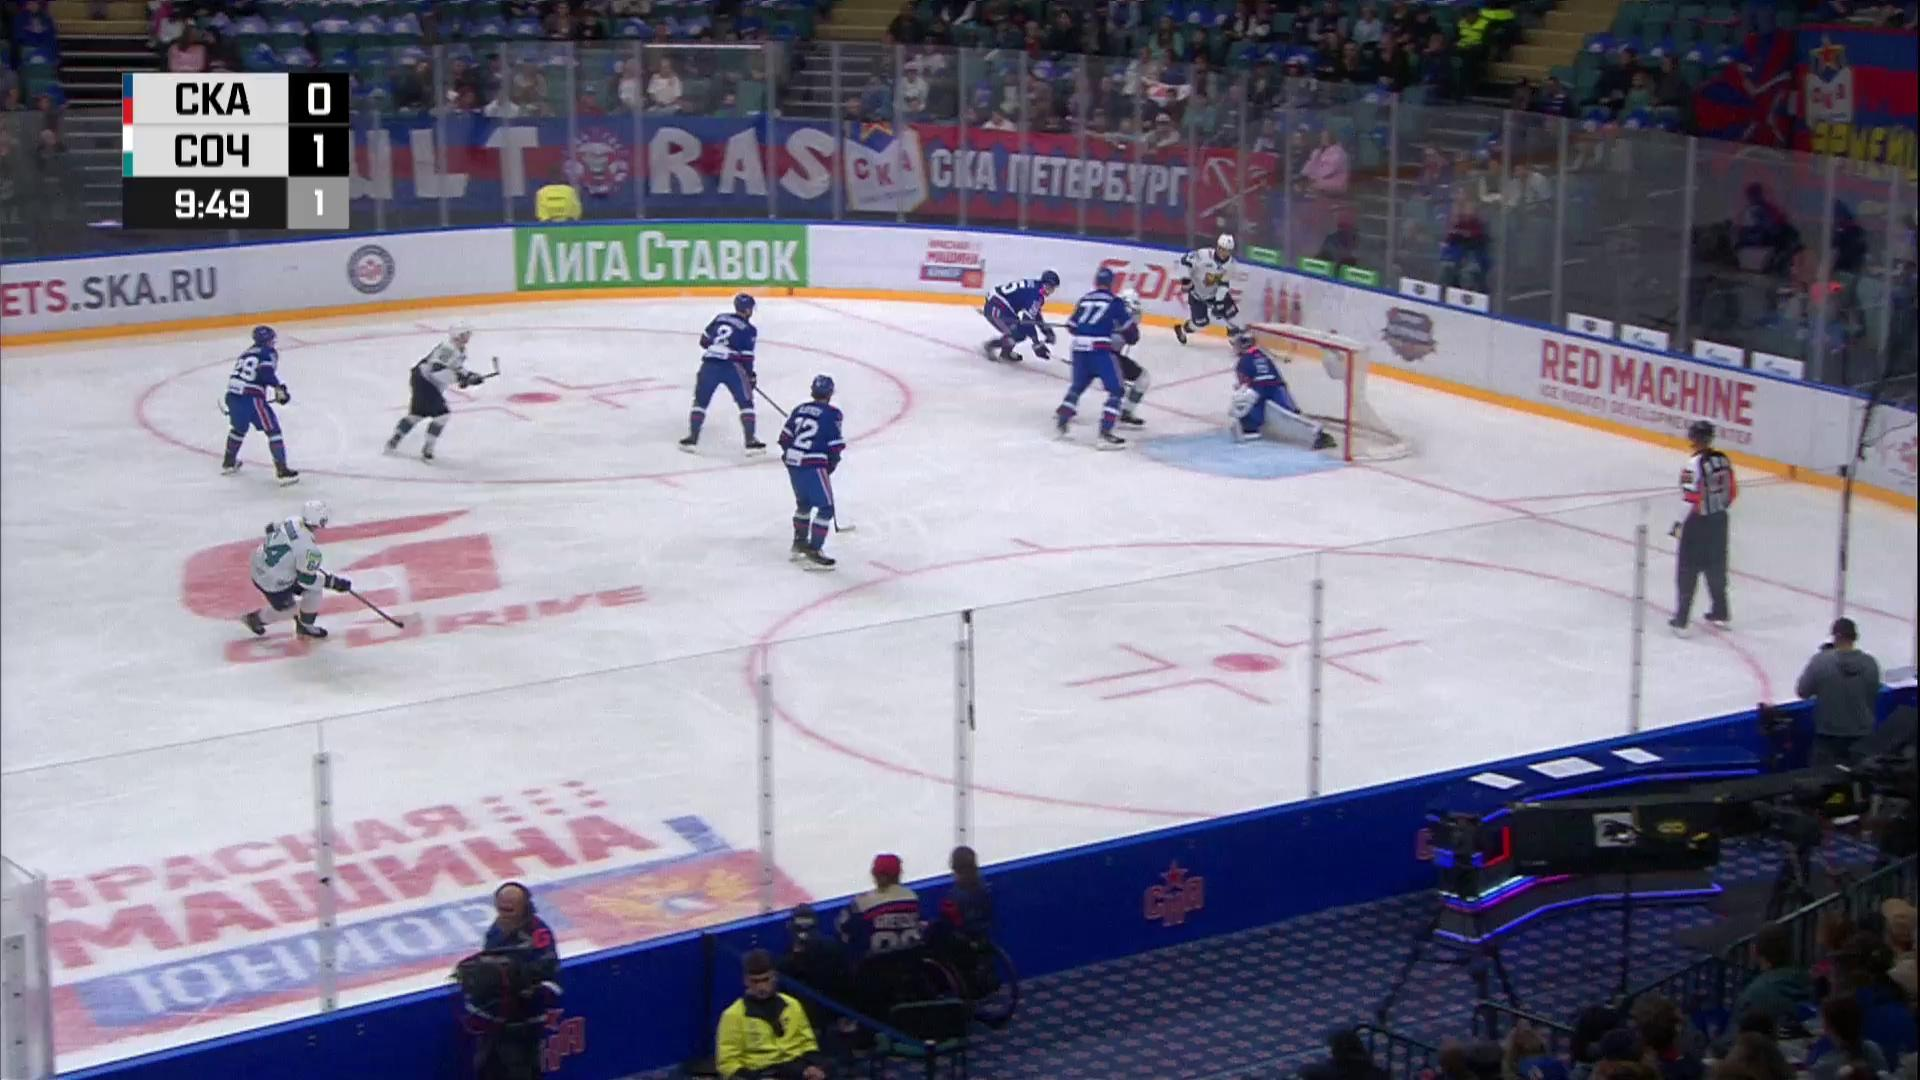ball: (1283, 359, 1291, 364)
